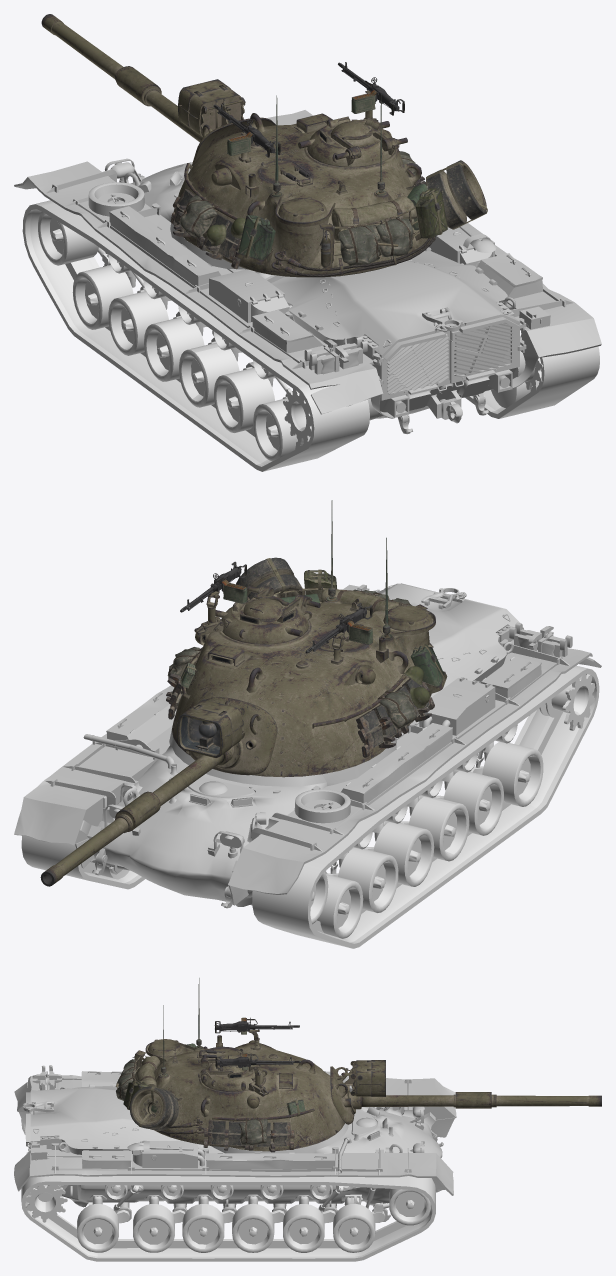
The model's file is M48A5 Patton.fbx.
The picture shows the model from 3 angles, top to bottom: view 1: azimuth 30°, elevation 25°; view 2: azimuth 150°, elevation 25°; view 3: azimuth 270°, elevation 25°; orthographic projection. The views are drawn at different scales.
Parts seen in each view (by area): view 1: Hull, Turret_01, exportChassL1_Shape, track_L_Shape, gun_01_Shape, track_R_Shape, exportChassR1_Shape; view 2: Hull, Turret_01, exportChassL1_Shape, track_L_Shape, gun_01_Shape, track_R_Shape; view 3: Hull, Turret_01, exportChassR1_Shape, track_R_Shape, gun_01_Shape.
Boxes of the visible parts, x1=… form: Hull: x1=14, y1=110, x2=601, y2=434; Turret_01: x1=170, y1=62, x2=487, y2=277; exportChassL1_Shape: x1=38, y1=211, x2=311, y2=461; track_L_Shape: x1=22, y1=200, x2=369, y2=471; gun_01_Shape: x1=41, y1=14, x2=275, y2=166; track_R_Shape: x1=465, y1=329, x2=599, y2=418; exportChassR1_Shape: x1=491, y1=330, x2=542, y2=408; Hull: x1=14, y1=583, x2=601, y2=908; Turret_01: x1=166, y1=500, x2=447, y2=777; exportChassL1_Shape: x1=310, y1=674, x2=595, y2=938; track_L_Shape: x1=252, y1=665, x2=599, y2=948; gun_01_Shape: x1=40, y1=697, x2=277, y2=886; track_R_Shape: x1=21, y1=835, x2=144, y2=889; Hull: x1=14, y1=1065, x2=456, y2=1221; Turret_01: x1=115, y1=978, x2=344, y2=1152; exportChassR1_Shape: x1=25, y1=1185, x2=430, y2=1252; track_R_Shape: x1=21, y1=1175, x2=435, y2=1261; gun_01_Shape: x1=330, y1=1060, x2=601, y2=1124.
Size of the model in its own units: 372 by 372 by 920.
